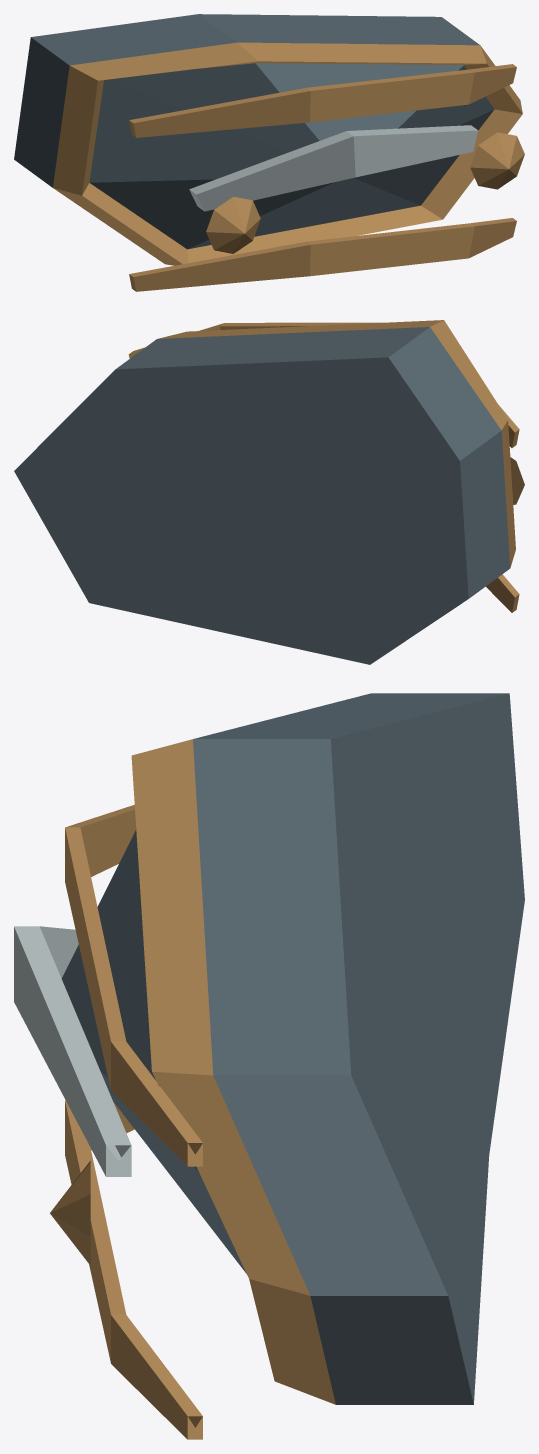
File: ranger_bracer_l.glb
3 views of the same model, one above another, from view 1: azimuth 30°, elevation 25°; view 2: azimuth 150°, elevation 25°; view 3: azimuth 270°, elevation 25° (orthographic). The views are drawn at different scales.
Parts seen in each view (by area): view 1: ranger_bracer_l; view 2: ranger_bracer_l; view 3: ranger_bracer_l.
Boxes of the visible parts, left/top/right/bottom form: ranger_bracer_l: left=14, top=14, right=524, bottom=291; ranger_bracer_l: left=14, top=320, right=524, bottom=664; ranger_bracer_l: left=14, top=693, right=524, bottom=1439.
Bounding box in the file's own units: 0.179 × 0.0999 × 0.1.
